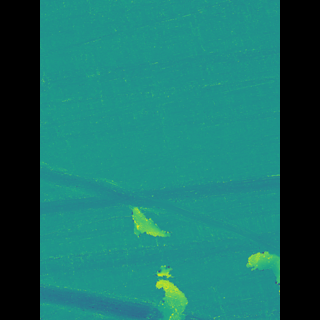Loch: (68, 157, 250, 258), (69, 277, 160, 319), (151, 262, 183, 320), (135, 198, 170, 243), (223, 239, 251, 294)
